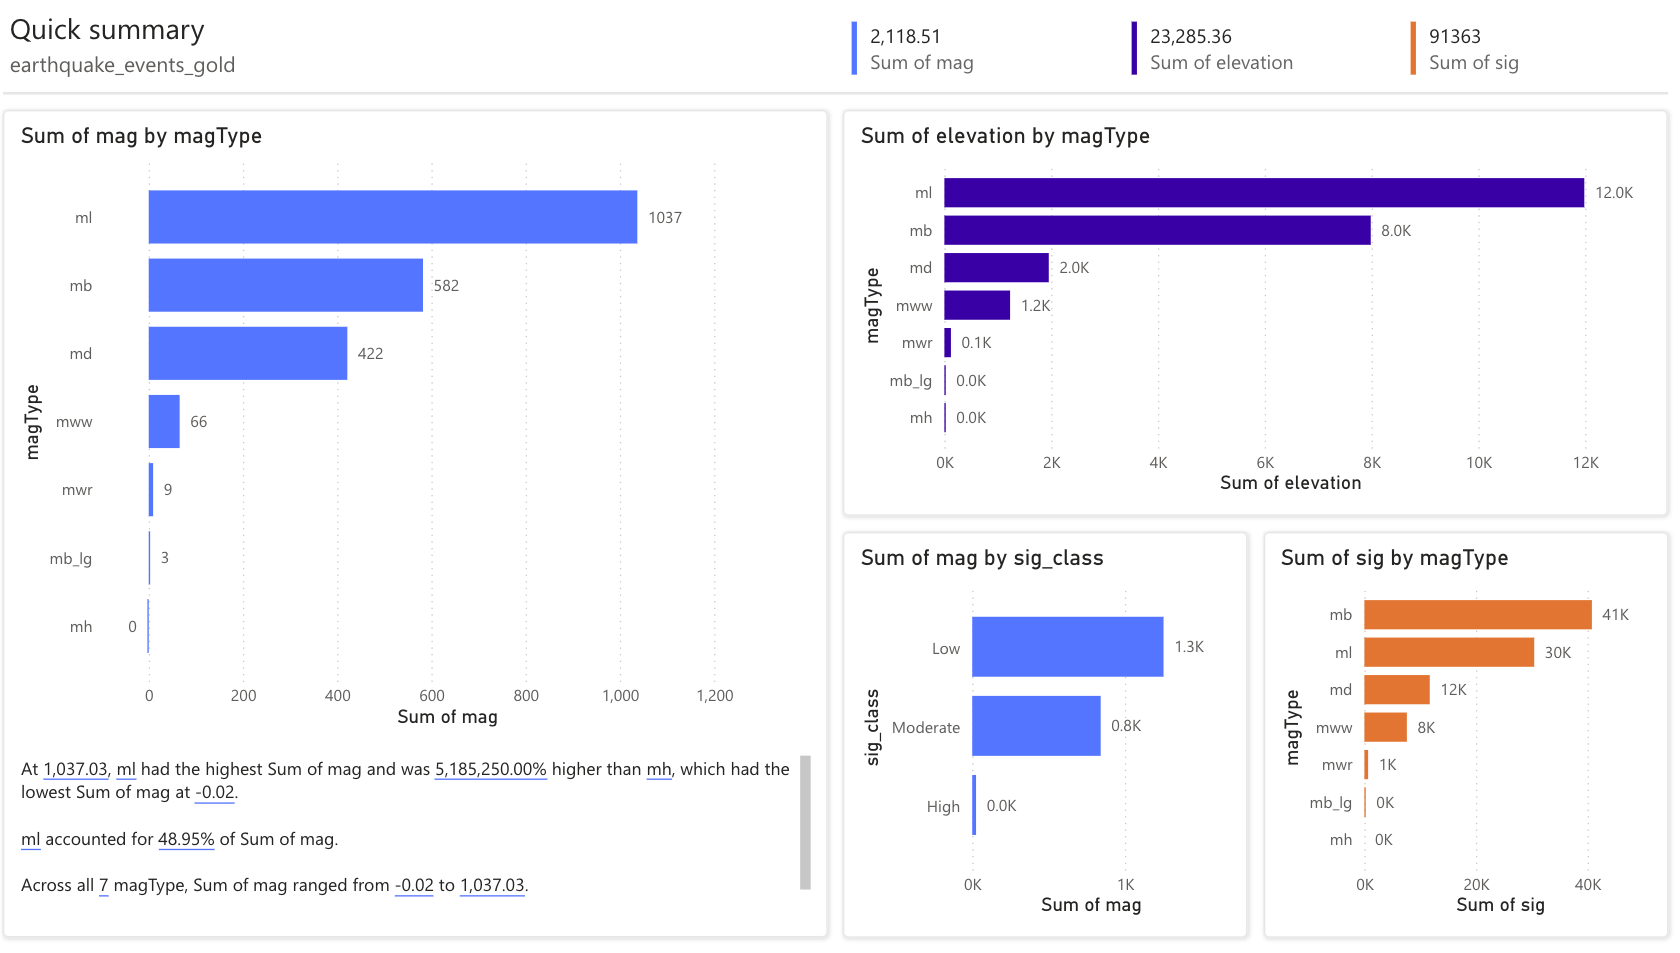

The page's visual inventory and layout, read from the dashboard file:
{"tool":"powerbi","page":{"name":"Page 1","canvas":[1280,720],"ordinal":0},"visuals":[{"type":"shape","box":[12,58,1256,26],"z":0},{"type":"shape","box":[12,84,622,624],"z":1000},{"type":"shape","box":[646,84,622,306],"z":2000},{"type":"shape","box":[646,402,305,306],"z":3000},{"type":"shape","box":[963,402,305,306],"z":4000},{"type":"clusteredBarChart","fields":{"Category":["earthquake_events_gold.magType"],"Y":["Sum(earthquake_events_gold.sig)"]},"box":[971,414,289,282],"z":5000},{"type":"clusteredBarChart","fields":{"Category":["earthquake_events_gold.sig_class"],"Y":["Sum(earthquake_events_gold.mag)"]},"box":[654,414,289,282],"z":6000},{"type":"clusteredBarChart","fields":{"Category":["earthquake_events_gold.magType"],"Y":["Sum(earthquake_events_gold.elevation)"]},"box":[654,96,606,282],"z":7000},{"type":"textbox","box":[20,566,606,129],"z":8000},{"type":"clusteredBarChart","fields":{"Category":["earthquake_events_gold.magType"],"Y":["Sum(earthquake_events_gold.mag)"]},"box":[20,96,606,458],"z":9000},{"type":"multiRowCard","fields":{"Values":["Sum(earthquake_events_gold.sig)"]},"box":[1069,12,199,50],"z":10000},{"type":"multiRowCard","fields":{"Values":["Sum(earthquake_events_gold.elevation)"]},"box":[858,12,199,50],"z":11000},{"type":"multiRowCard","fields":{"Values":["Sum(earthquake_events_gold.mag)"]},"box":[647,12,199,50],"z":12000},{"type":"textbox","box":[12,33,306,32],"z":13000},{"type":"textbox","box":[12,2,306,39],"z":14000}]}

Visuals, with their boxes in screenshot pixels (x1, y1, x2, y2), scaled from the page's 1280x720 canvas onto the 1680x953 screenshot:
shape: bbox(16, 77, 1664, 111)
shape: bbox(16, 111, 832, 937)
shape: bbox(848, 111, 1664, 516)
shape: bbox(848, 532, 1248, 937)
shape: bbox(1264, 532, 1664, 937)
clusteredBarChart - earthquake_events_gold.magType x Sum(earthquake_events_gold.sig): bbox(1274, 548, 1654, 921)
clusteredBarChart - earthquake_events_gold.sig_class x Sum(earthquake_events_gold.mag): bbox(858, 548, 1238, 921)
clusteredBarChart - earthquake_events_gold.magType x Sum(earthquake_events_gold.elevation): bbox(858, 127, 1654, 500)
textbox: bbox(26, 749, 822, 920)
clusteredBarChart - earthquake_events_gold.magType x Sum(earthquake_events_gold.mag): bbox(26, 127, 822, 733)
multiRowCard - Sum(earthquake_events_gold.sig): bbox(1403, 16, 1664, 82)
multiRowCard - Sum(earthquake_events_gold.elevation): bbox(1126, 16, 1387, 82)
multiRowCard - Sum(earthquake_events_gold.mag): bbox(849, 16, 1110, 82)
textbox: bbox(16, 44, 417, 86)
textbox: bbox(16, 3, 417, 54)
